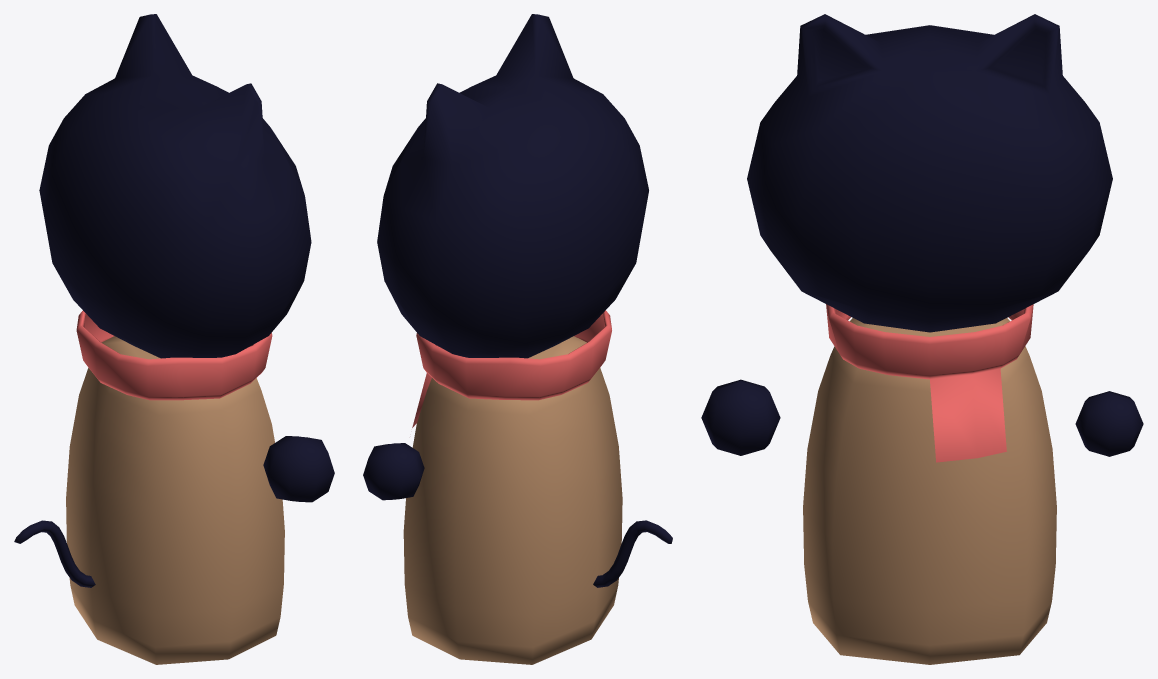
The model's file is main_character_dummy.fbx.
3 views of the same model, side by side, from view 1: azimuth 30°, elevation 25°; view 2: azimuth 150°, elevation 25°; view 3: azimuth 270°, elevation 25° (orthographic). The views are drawn at different scales.
Parts seen in each view (by area): view 1: Cube.008, Cube.009, Cube.011, Cube.010, BézierCurve; view 2: Cube.008, Cube.009, Cube.011, Cube.010, BézierCurve; view 3: Cube.008, Cube.009, Cube.011, Cube.010.
Part boxes in pixels (x1,y1,x2,y2): Cube.008: (39,14,311,358); Cube.009: (66,336,284,664); Cube.011: (76,310,272,400); Cube.010: (263,436,334,502); BézierCurve: (14,520,95,587); Cube.008: (377,14,648,358); Cube.009: (403,336,622,664); Cube.011: (412,310,611,427); Cube.010: (363,443,424,500); BézierCurve: (593,520,672,587); Cube.008: (747,14,1112,332); Cube.009: (803,318,1056,664); Cube.011: (826,304,1033,462); Cube.010: (701,379,1143,456).
Size of the model in its own units: 146 by 299 by 193.
